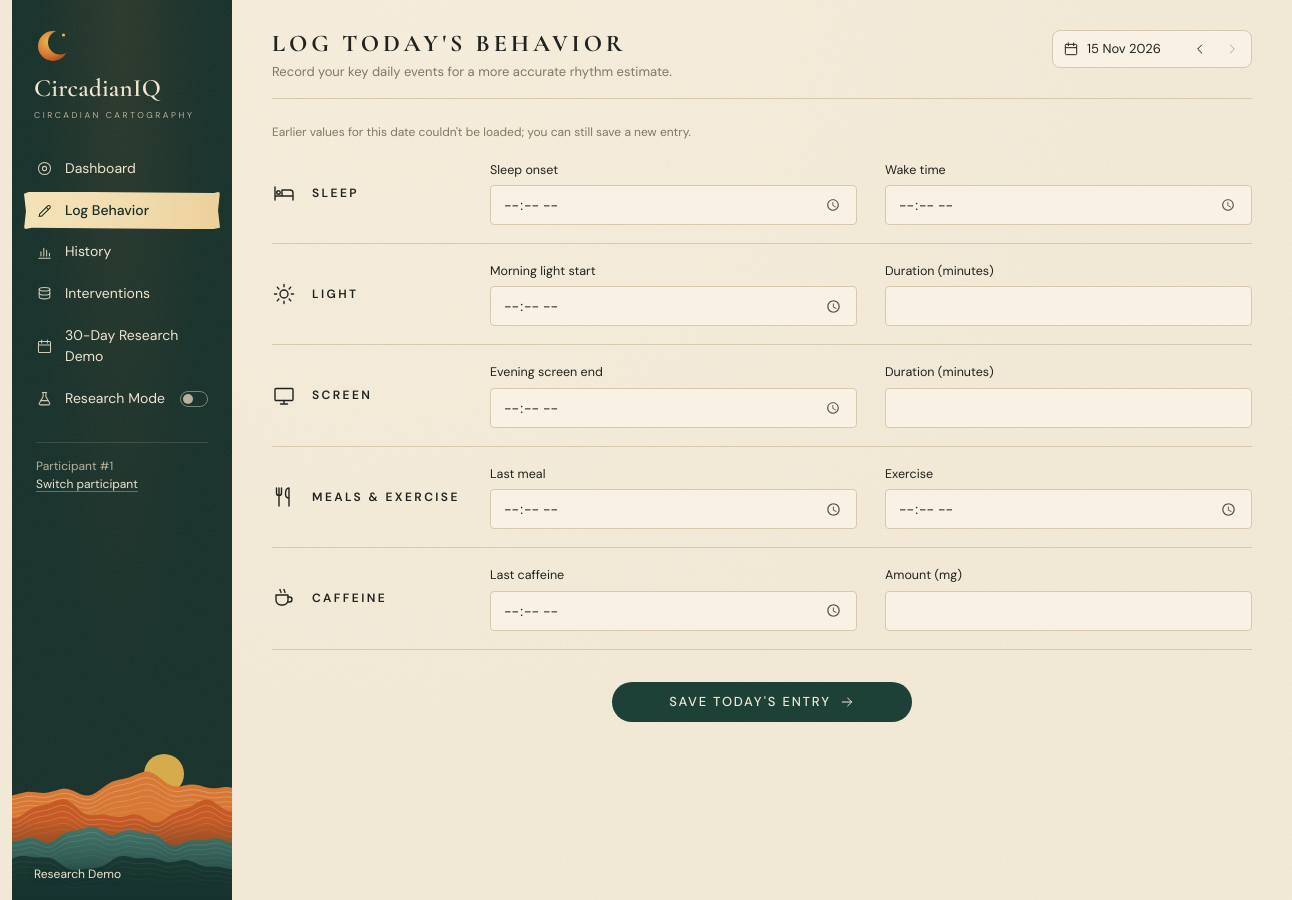
End-to-end UI flows › submits a daily behavioral entry
Type "23:30" into the time field labelled "Sleep onset" at (674, 205), box [490,185,857,225]
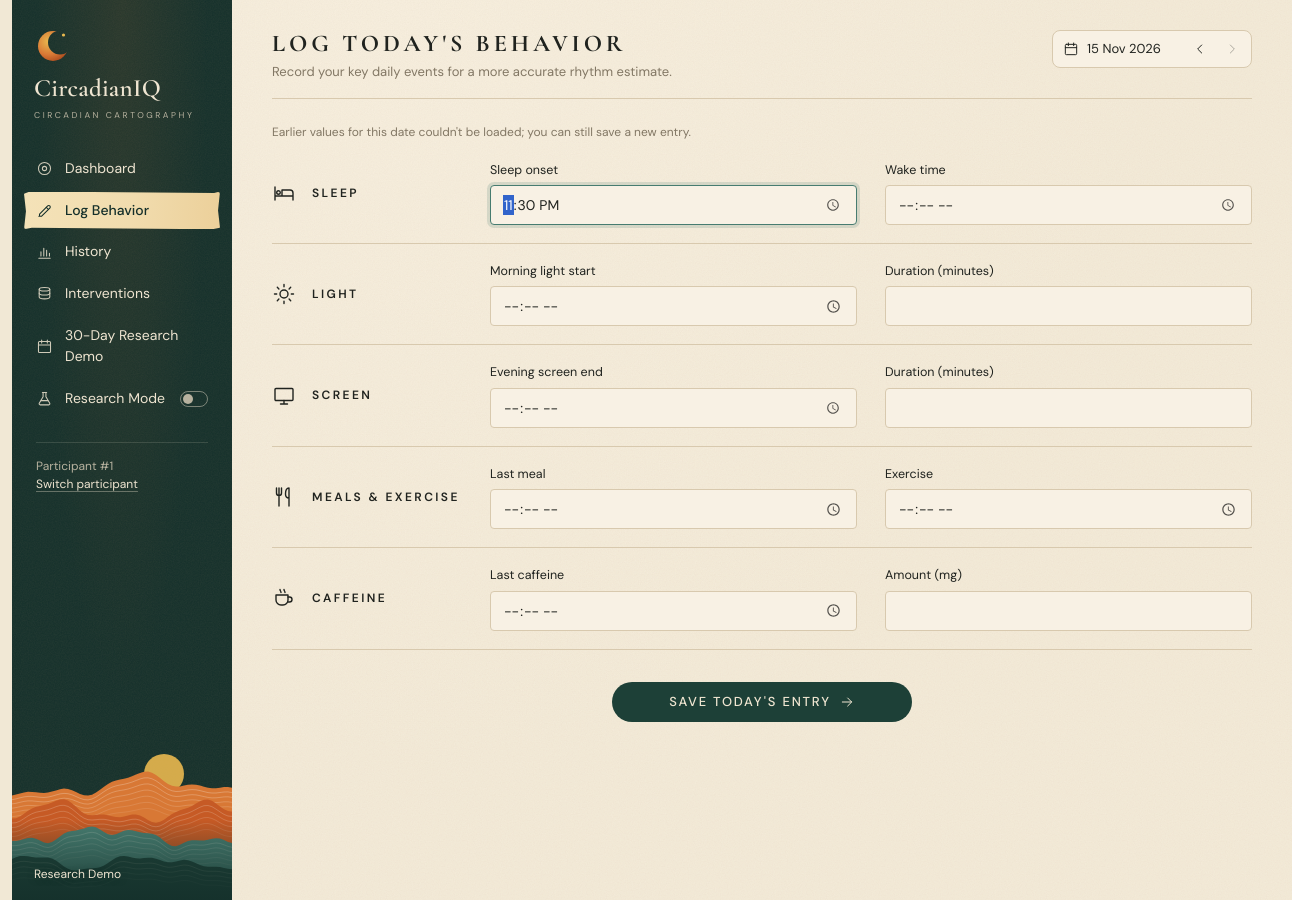
Click the button "Save today's entry" at (762, 702), box [612,682,912,722]
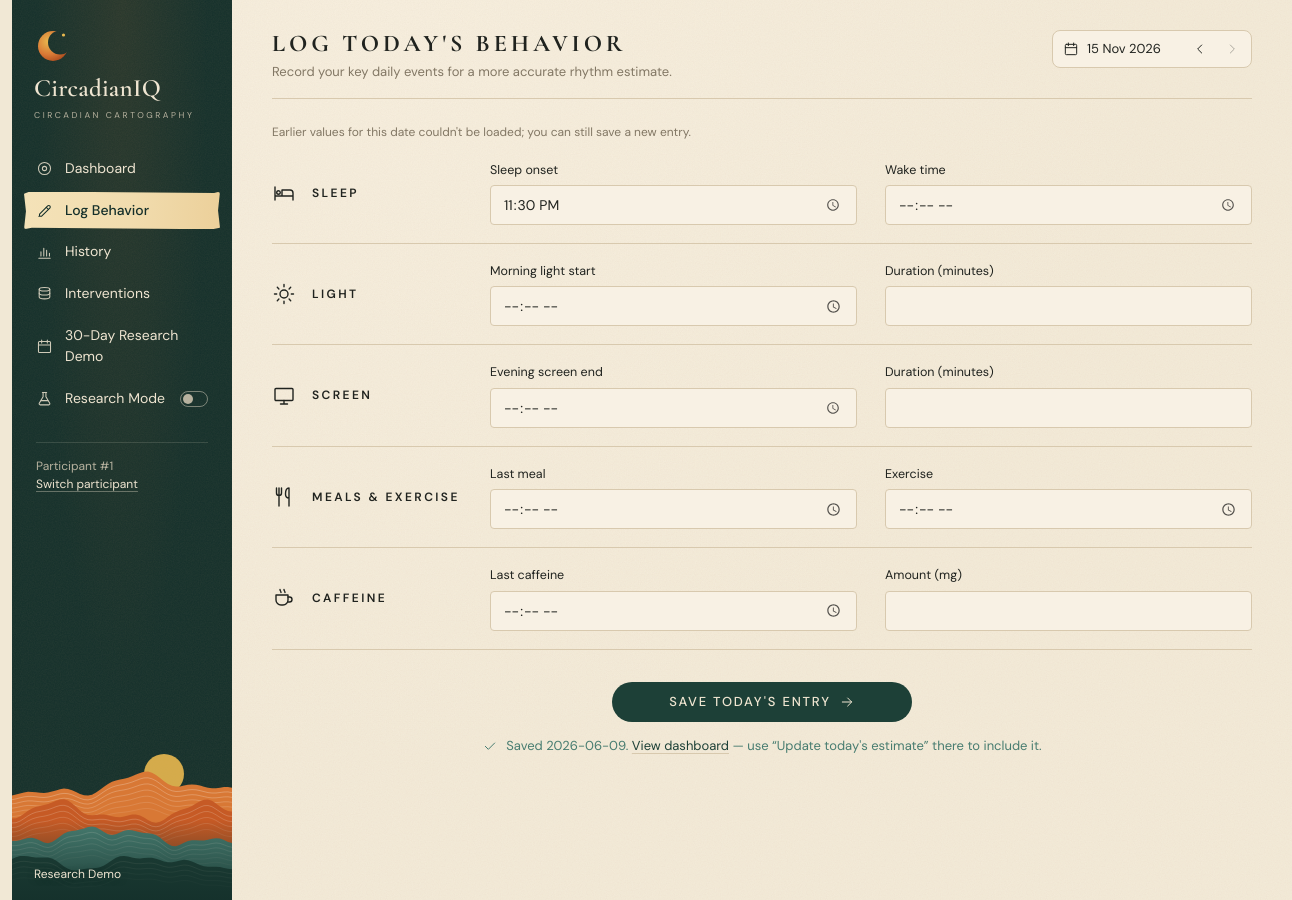
Now the text "Saved 2026-06-09" is shown, box [506,736,1042,756]
